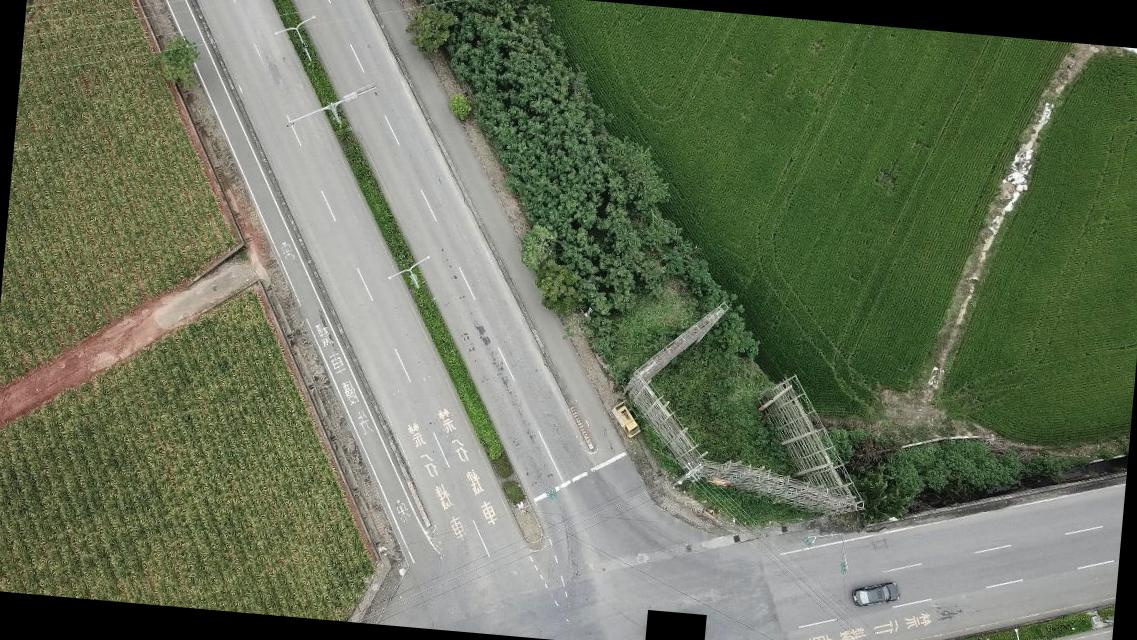vehicle: (848, 578, 901, 610), (616, 404, 642, 436)
